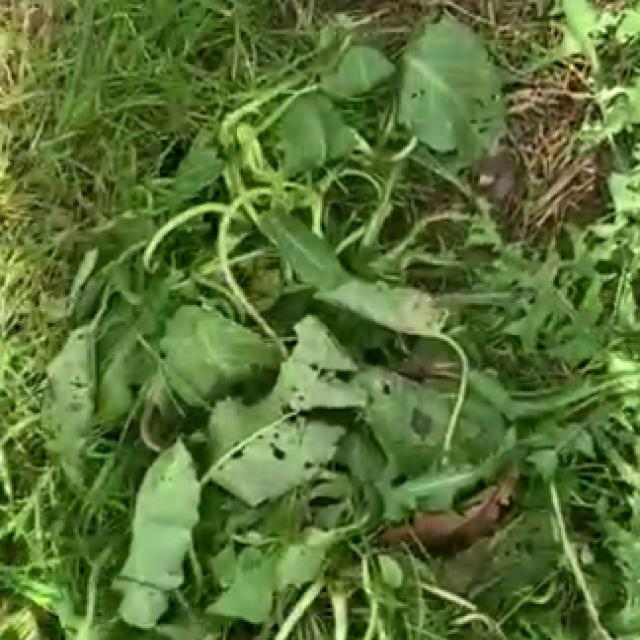organic waste: (63, 28, 585, 606)
